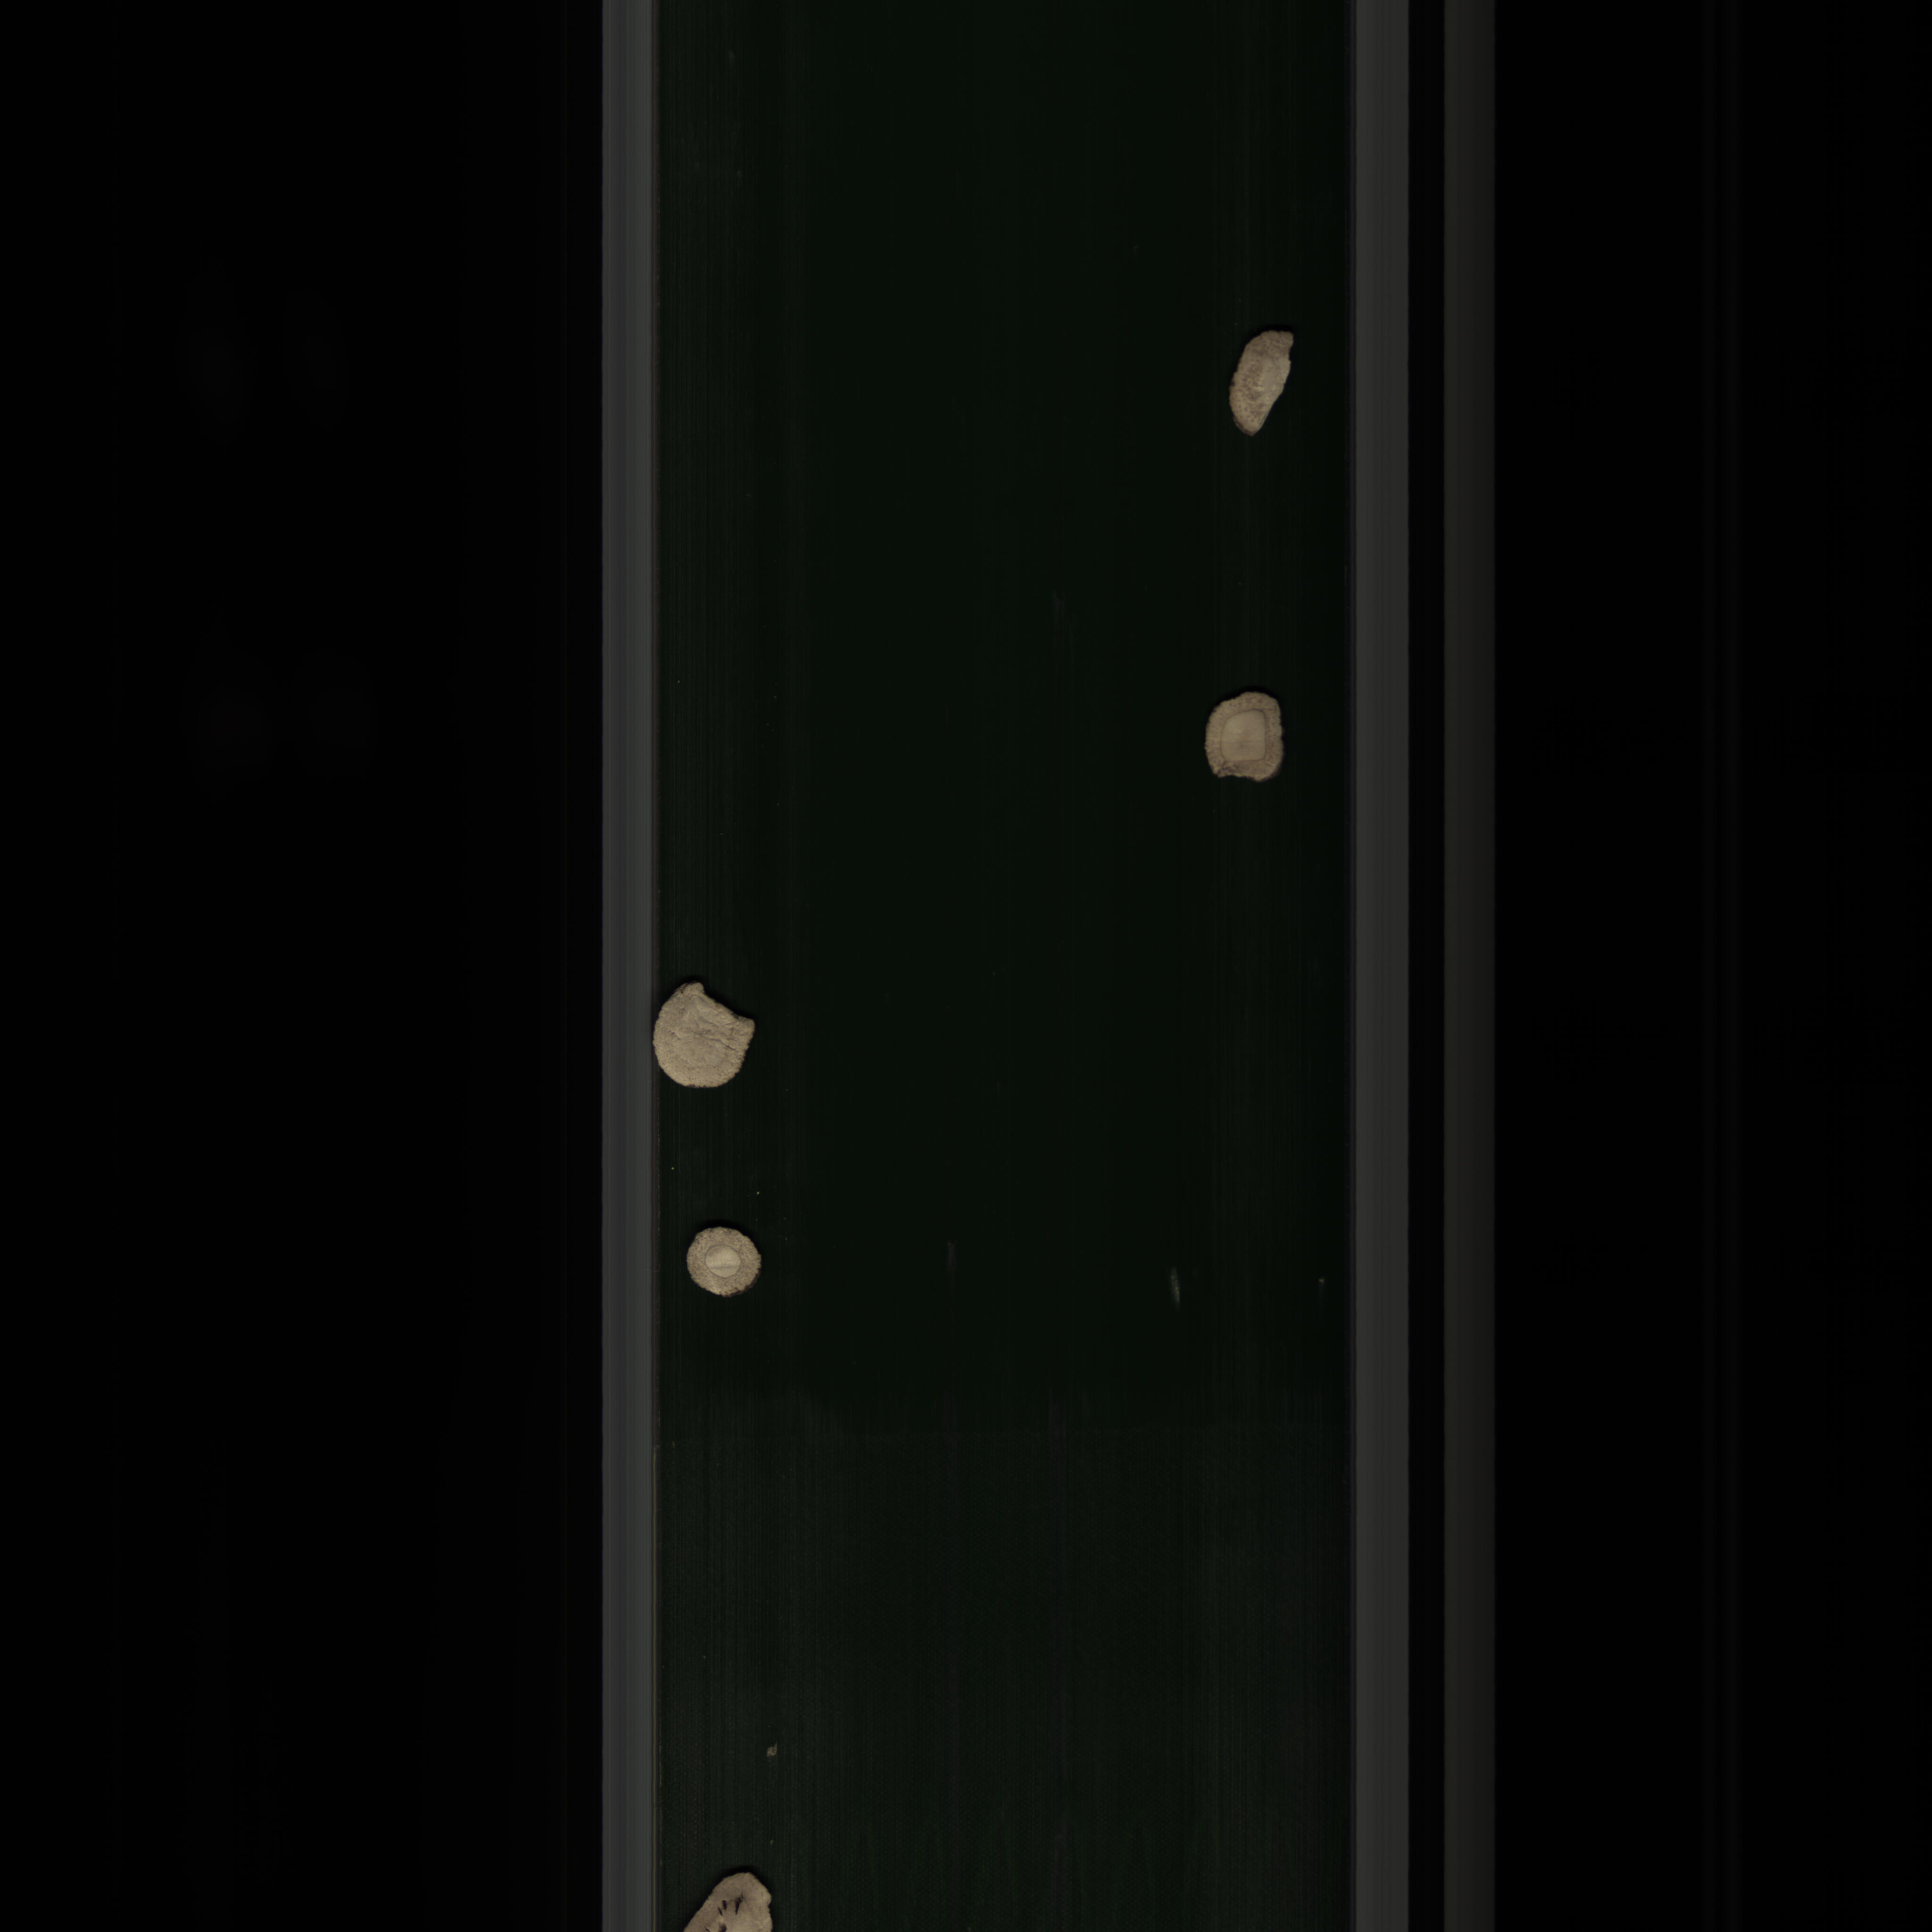debris: (649, 971, 777, 1106), (1210, 327, 1304, 453)
hole: (671, 1867, 789, 1932)
